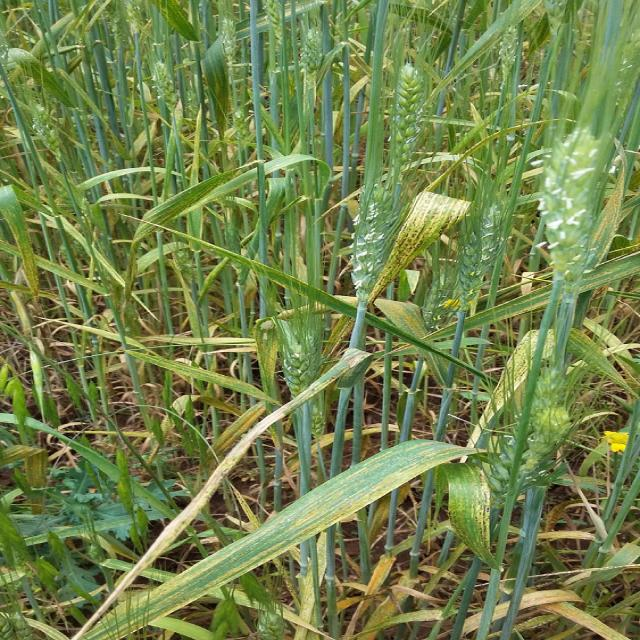wheat-yellowrust: (190, 441, 469, 594), (374, 193, 468, 298), (447, 464, 492, 538)
